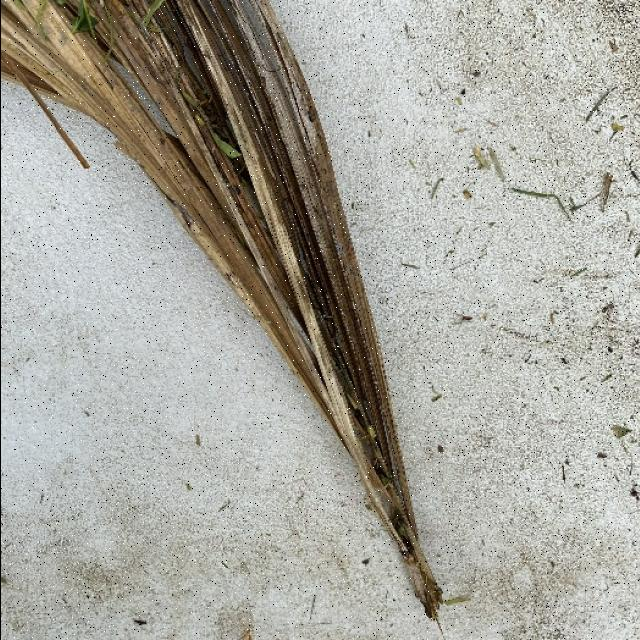organik: (22, 0, 443, 599)
